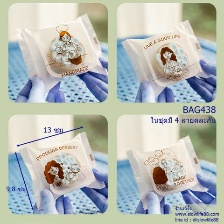snack: (11, 9, 107, 98), (117, 14, 215, 100), (13, 126, 107, 212), (120, 131, 211, 213)
